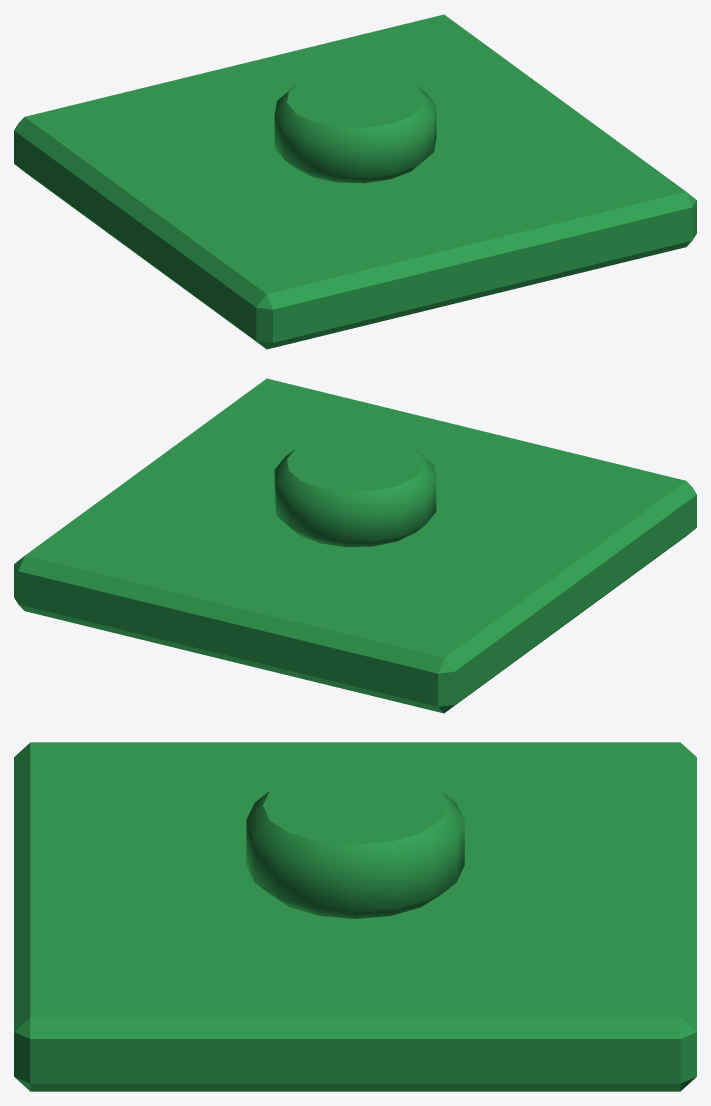
File: product_lid_green.glb
3 views of the same model, one above another, from view 1: azimuth 30°, elevation 25°; view 2: azimuth 150°, elevation 25°; view 3: azimuth 270°, elevation 25° (orthographic). The views are drawn at different scales.
Visible parts, largest first — view 1: Item; view 2: Item; view 3: Item.
Part boxes in pixels (x1,y1,x2,y2): Item: (14, 14, 696, 349); Item: (14, 378, 696, 713); Item: (14, 742, 696, 1091).
Bounding box in the file's own units: 0.25 × 0.06 × 0.25.
